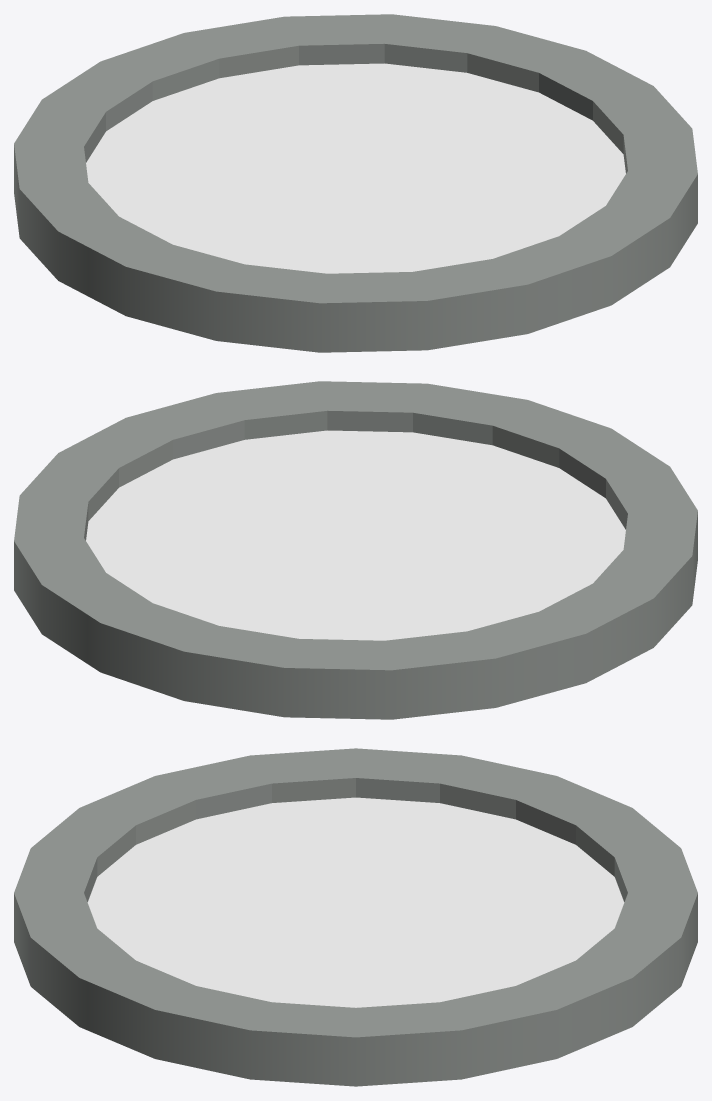
Rendered from light5.FBX.
3 renders of one model, top to bottom at view 1: azimuth 30°, elevation 25°; view 2: azimuth 150°, elevation 25°; view 3: azimuth 270°, elevation 25°, orthographic.
Parts seen in each view (by area): view 1: light5; view 2: light5; view 3: light5.
Part boxes in pixels (box(x1,y1,x2,y2)): light5: box(14, 14, 697, 352); light5: box(14, 381, 697, 719); light5: box(14, 748, 697, 1086).
Size of the model in its own units: 1.58 by 0.1256 by 1.58.
